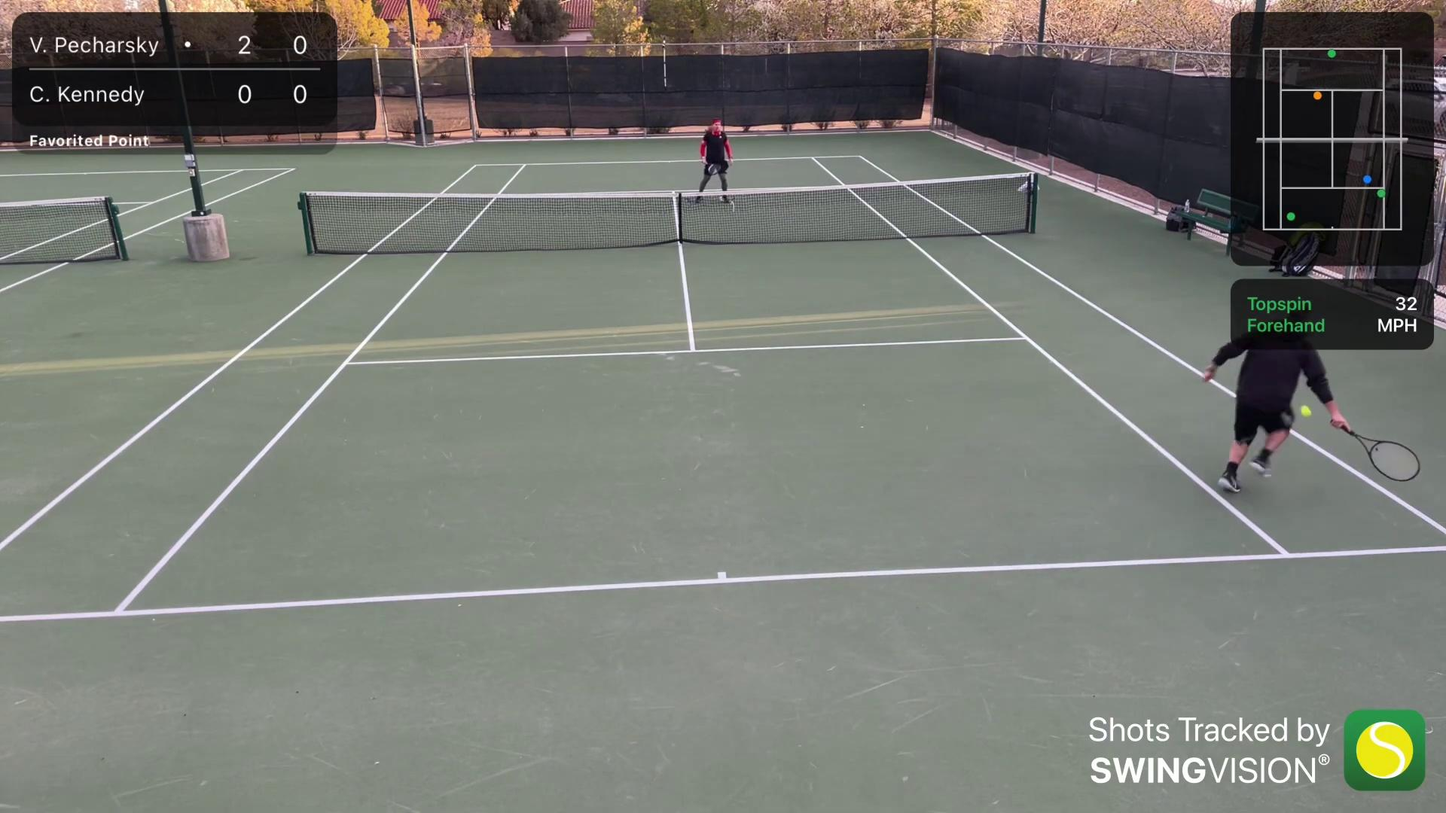ball: (1299, 403, 1313, 420)
